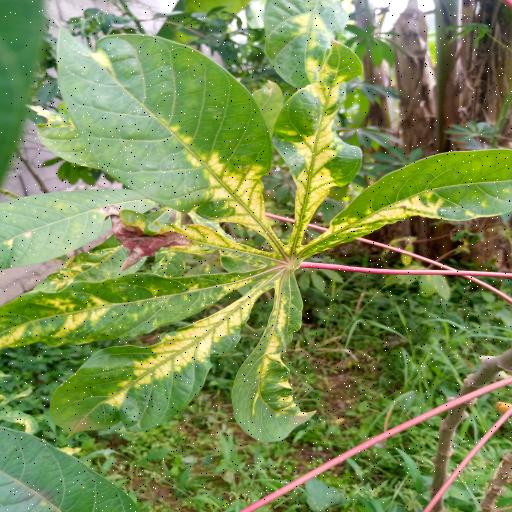Cassava_Mosaic: (5, 37, 512, 442)
